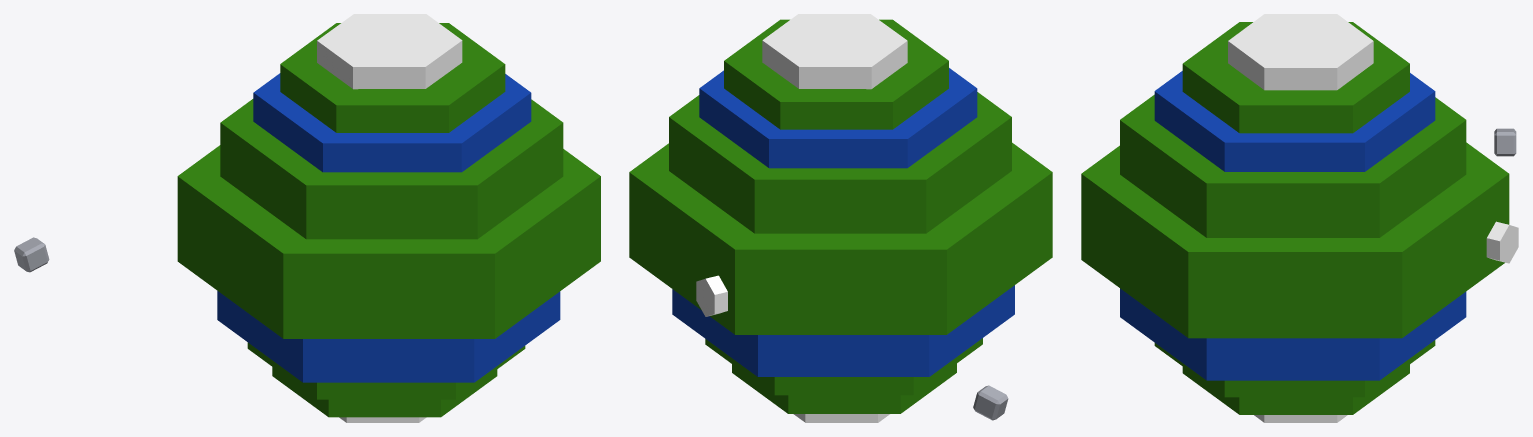
The model's file is planet_round_earth.glb.
The picture shows the model from 3 angles, left to right: view 1: azimuth 30°, elevation 25°; view 2: azimuth 150°, elevation 25°; view 3: azimuth 270°, elevation 25°; orthographic projection.
Visible parts, largest first — view 1: hexagon_ring (×8), block_bevel; view 2: hexagon_ring (×10), block_bevel; view 3: hexagon_ring (×10), block_bevel.
Part boxes in pixels (<box>): hexagon_ring (×8): <box>177,14,600,417</box>; block_bevel: <box>14,237,49,272</box>; hexagon_ring (×10): <box>629,14,1052,422</box>; block_bevel: <box>973,385,1008,420</box>; hexagon_ring (×10): <box>1081,14,1518,422</box>; block_bevel: <box>1494,128,1516,156</box>.
Size of the model in its own units: 1.61 by 1.28 by 1.42.
